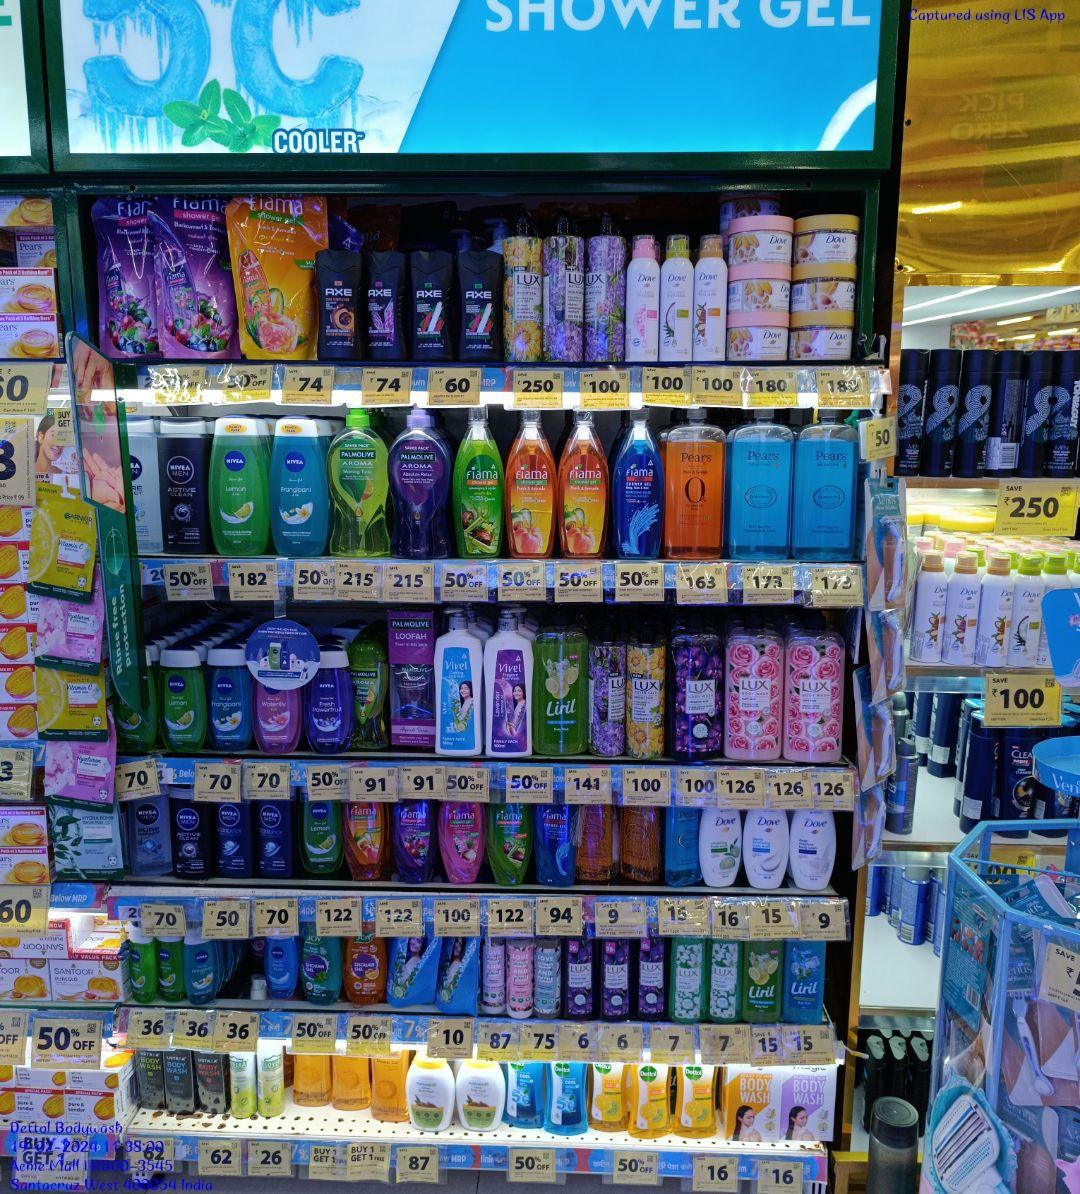Nivea_Shower_Gel_Frangipani_and_Oil_250ML: (269, 417, 326, 555)
Nivea_Shower_Gel_Lemon_and_Oil_250ML: (209, 411, 268, 560)
